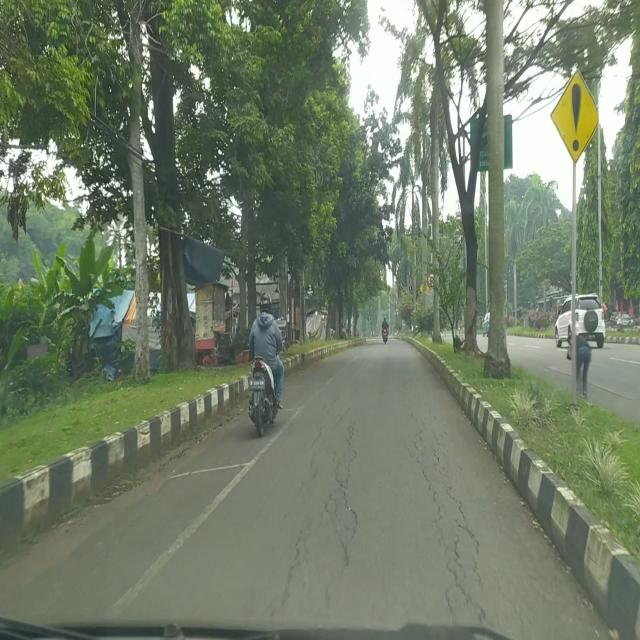Drain Hole: (282, 402, 359, 626), (408, 418, 489, 626)
